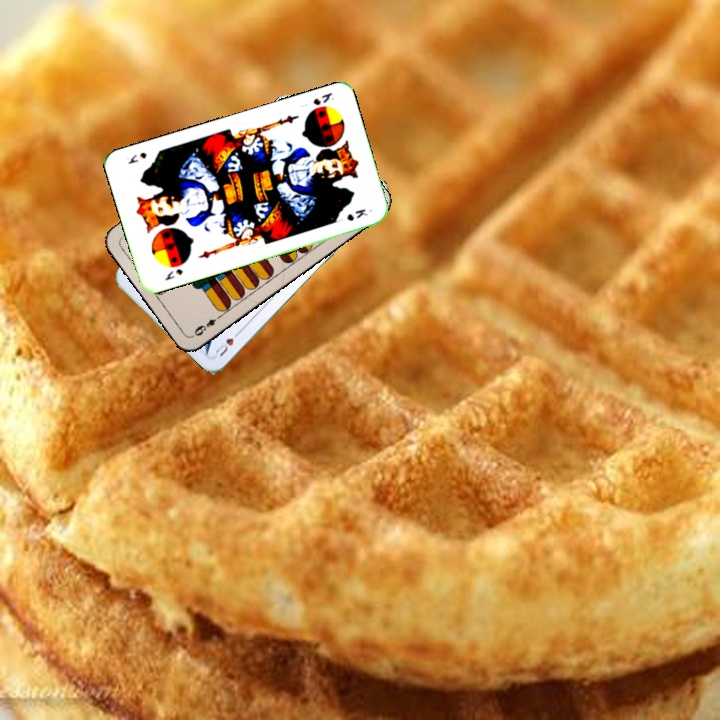E9: (189, 311, 225, 339)
HU: (211, 326, 244, 359)
SK: (309, 88, 336, 108), (161, 264, 185, 283)
